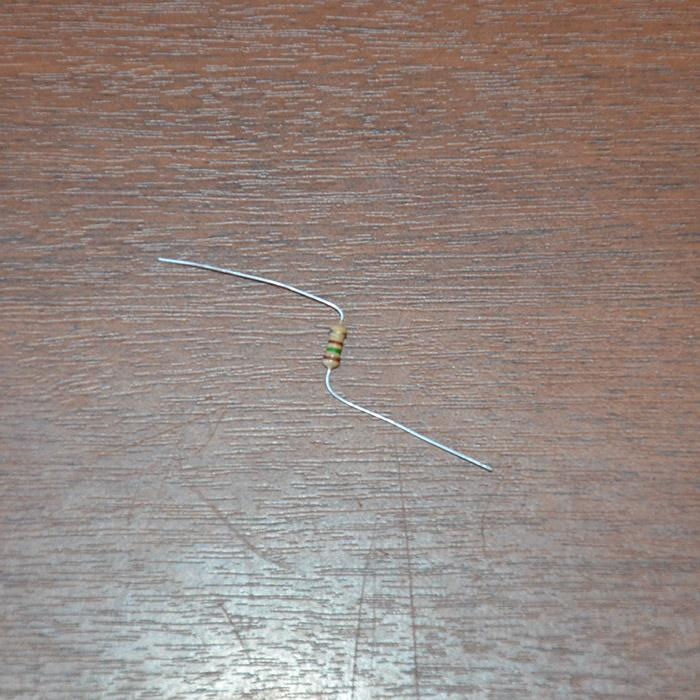resistor: (321, 329, 348, 371)
